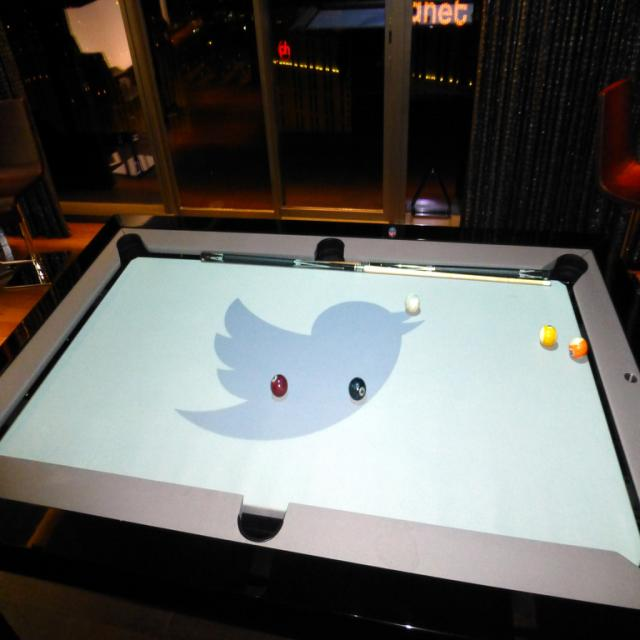Ball: (566, 336, 587, 359), (537, 323, 557, 345), (268, 373, 287, 396), (348, 376, 365, 399), (403, 290, 420, 312)
Billiard table: (0, 211, 640, 640)
